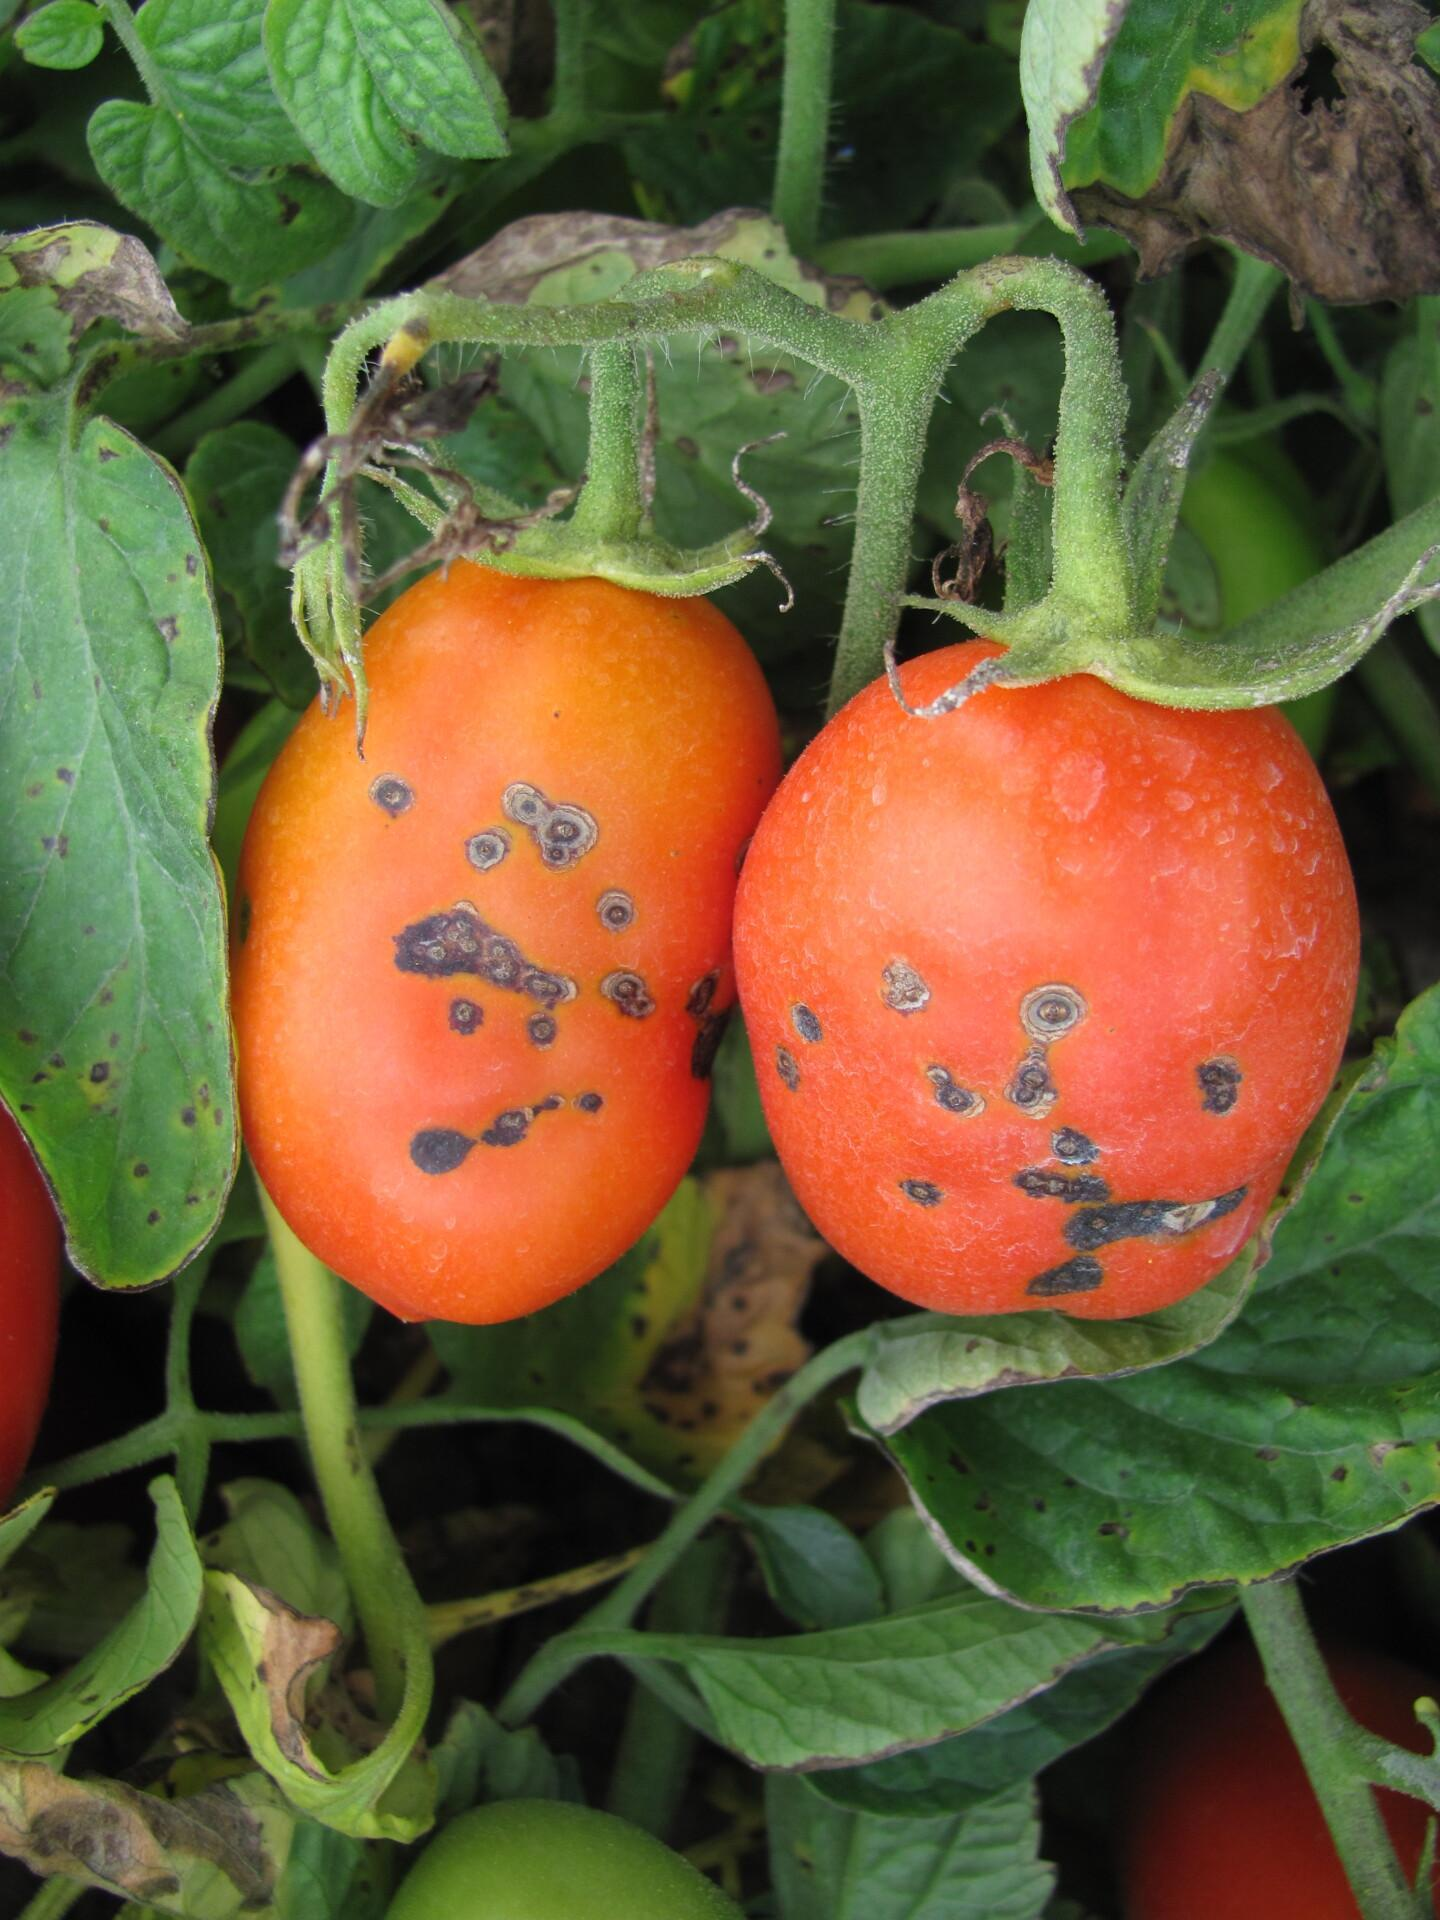tomato bacterial spot: (729, 655, 1364, 1336), (228, 565, 790, 1335)
